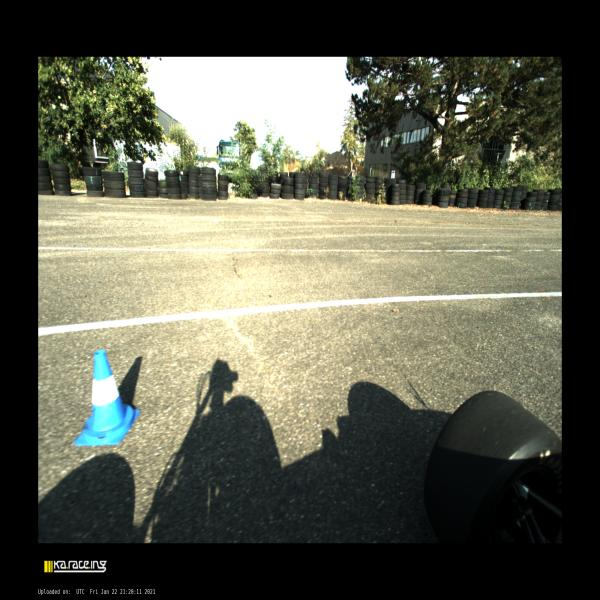blue_cone: (74, 350, 140, 445)
